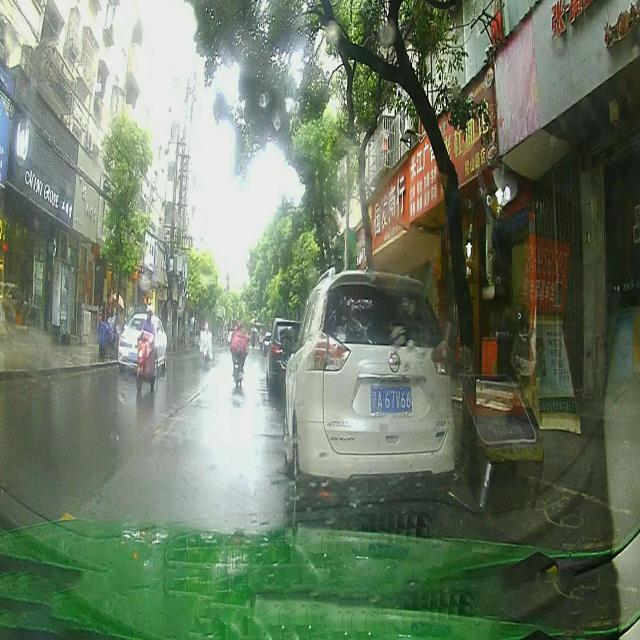car: (283, 264, 453, 523), (116, 316, 170, 372), (266, 318, 301, 392)
